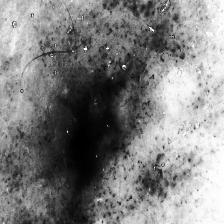Benign Marking or Mole: (66, 122, 105, 170)
